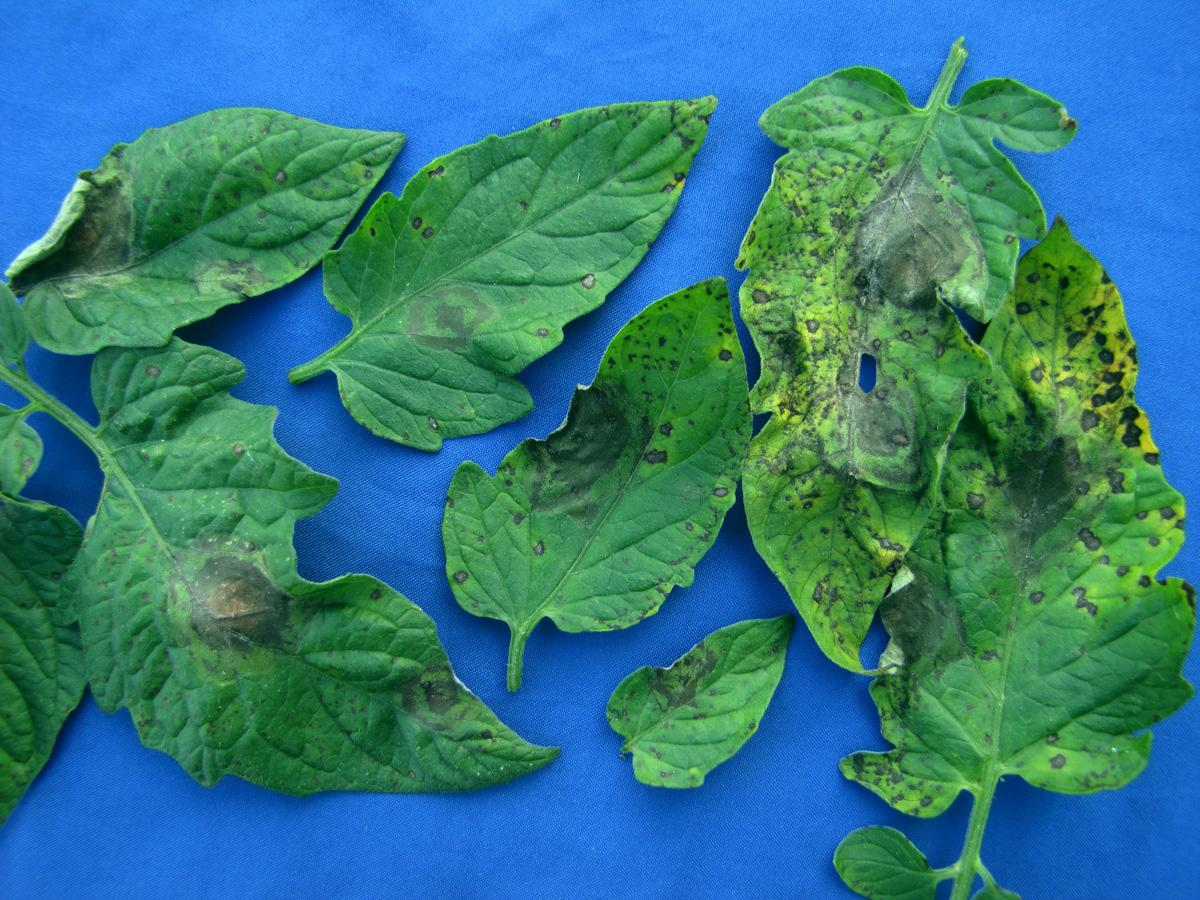Tomato leaf late blight: (36, 355, 571, 834), (811, 191, 1188, 839), (728, 20, 1048, 680), (429, 250, 760, 677), (314, 91, 722, 435), (10, 114, 412, 335)
